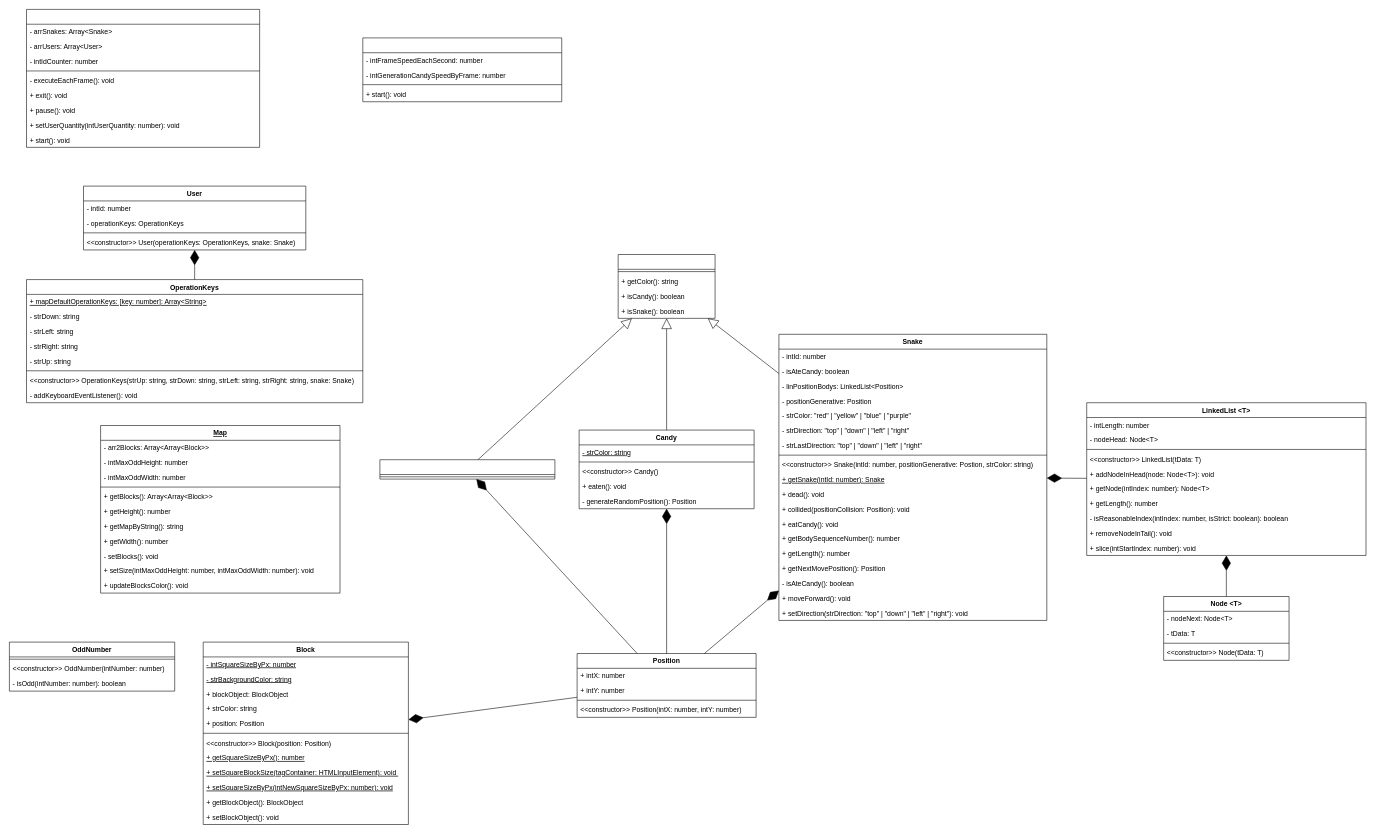
The diagram is 1375 pixels wide and 834 high, and some of its shapes have lost their labels. Here are the shapes that lost their labels. From the top down, the box of each, then its label:
(26, 9, 260, 147): SnakeGame
(362, 37, 562, 102): Timer
(618, 254, 715, 318): BlockObject
(379, 459, 555, 479): nullBlock
